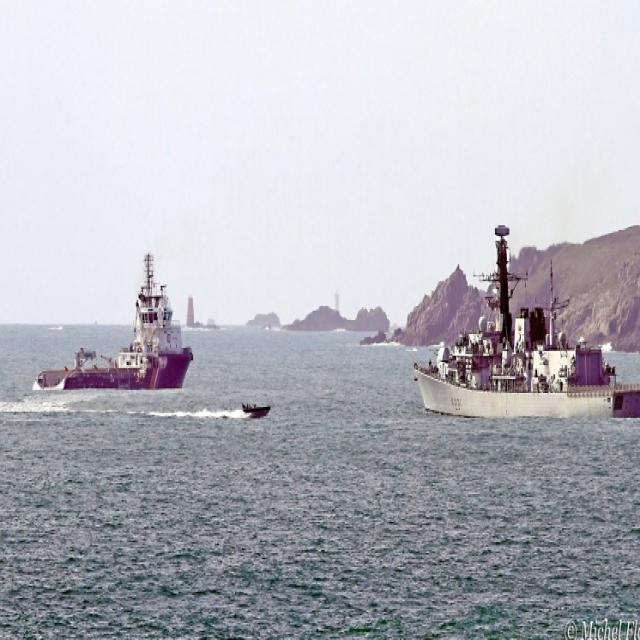Fragata: (413, 214, 640, 430)
